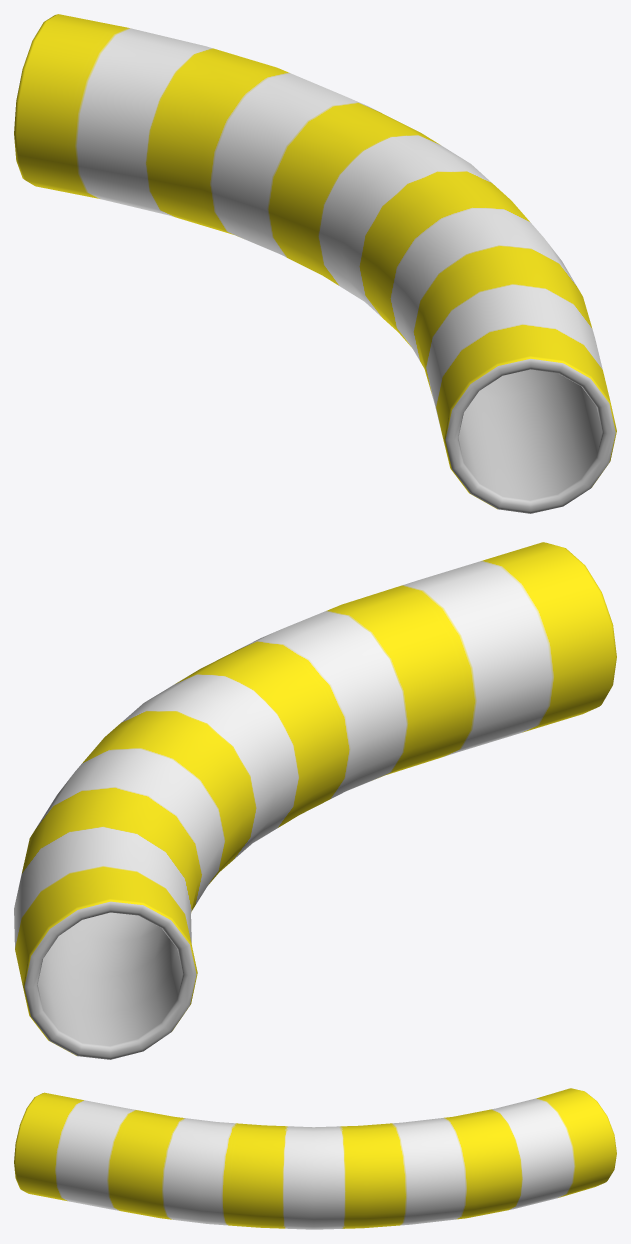
Rendered from pipe curve.fbx.
3 renders of one model, top to bottom at view 1: azimuth 30°, elevation 25°; view 2: azimuth 150°, elevation 25°; view 3: azimuth 270°, elevation 25°, orthographic. The views are drawn at different scales.
Visible parts, largest first — view 1: pipe_curve; view 2: pipe_curve; view 3: pipe_curve.
Part boxes in pixels (bbox=[...]): pipe_curve: bbox=[14, 14, 616, 513]; pipe_curve: bbox=[14, 542, 616, 1059]; pipe_curve: bbox=[14, 1088, 616, 1229].
Bounding box in the file's own units: 898 × 490 × 2877.
1 material, 1 textured.
